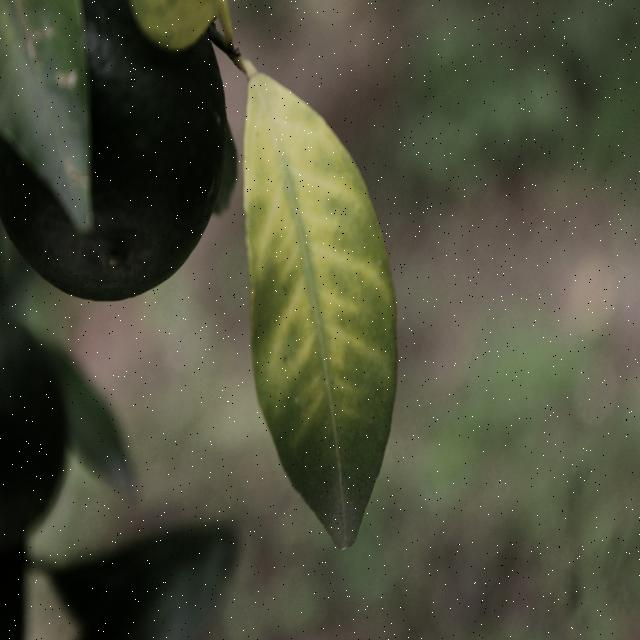greening: (239, 72, 401, 554)
